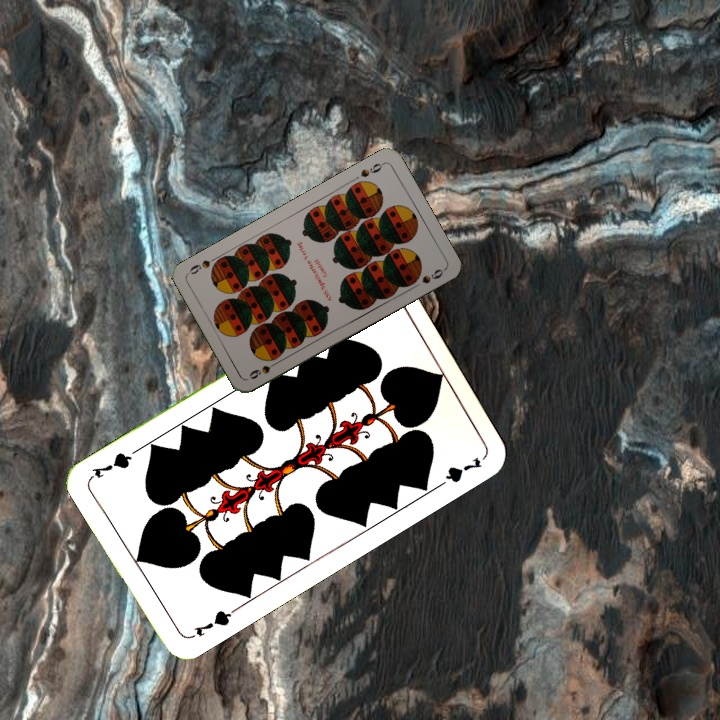G7: (186, 604, 239, 641)
S9: (245, 357, 282, 382), (357, 158, 387, 180)
